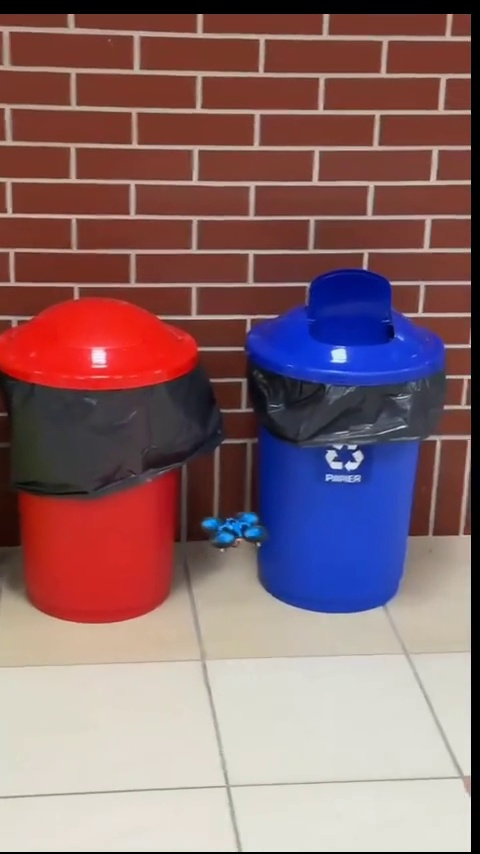drone: (204, 512, 277, 556)
